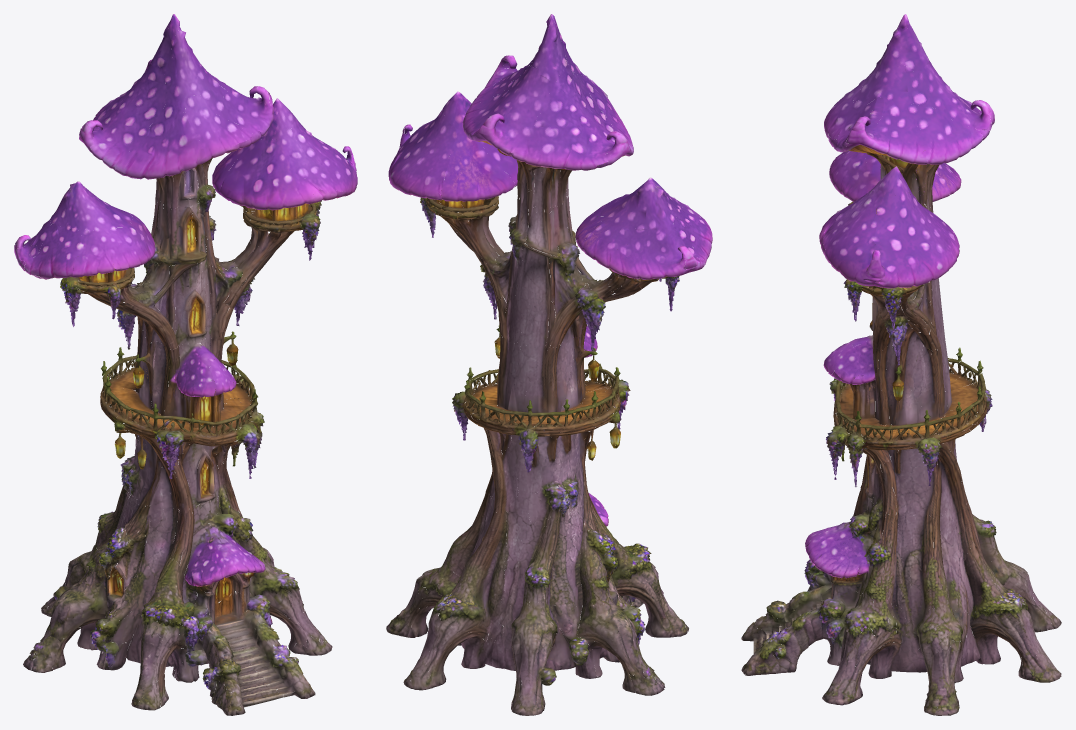
The model's file is spirehouse2.glb.
3 renders of one model, left to right at view 1: azimuth 30°, elevation 25°; view 2: azimuth 150°, elevation 25°; view 3: azimuth 270°, elevation 25°, orthographic.
Visible parts, largest first — view 1: tripo_node_11a9c3bb-5f65-4c9f-a219-c27e5ce375ea; view 2: tripo_node_11a9c3bb-5f65-4c9f-a219-c27e5ce375ea; view 3: tripo_node_11a9c3bb-5f65-4c9f-a219-c27e5ce375ea.
Boxes of the visible parts, x1=… form: tripo_node_11a9c3bb-5f65-4c9f-a219-c27e5ce375ea: x1=14, y1=14, x2=357, y2=715; tripo_node_11a9c3bb-5f65-4c9f-a219-c27e5ce375ea: x1=386, y1=14, x2=712, y2=715; tripo_node_11a9c3bb-5f65-4c9f-a219-c27e5ce375ea: x1=741, y1=14, x2=1061, y2=715.
Size of the model in its own units: 26.01 by 50 by 22.99.
1 material, 1 textured.
